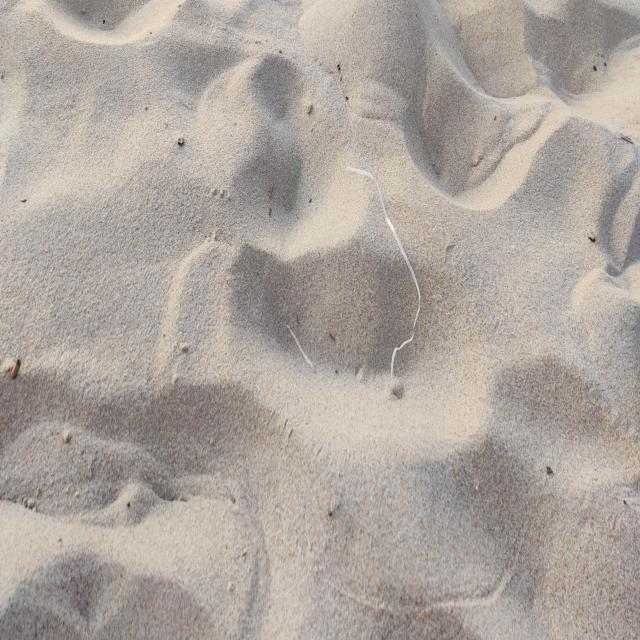litter: (348, 162, 423, 392)
